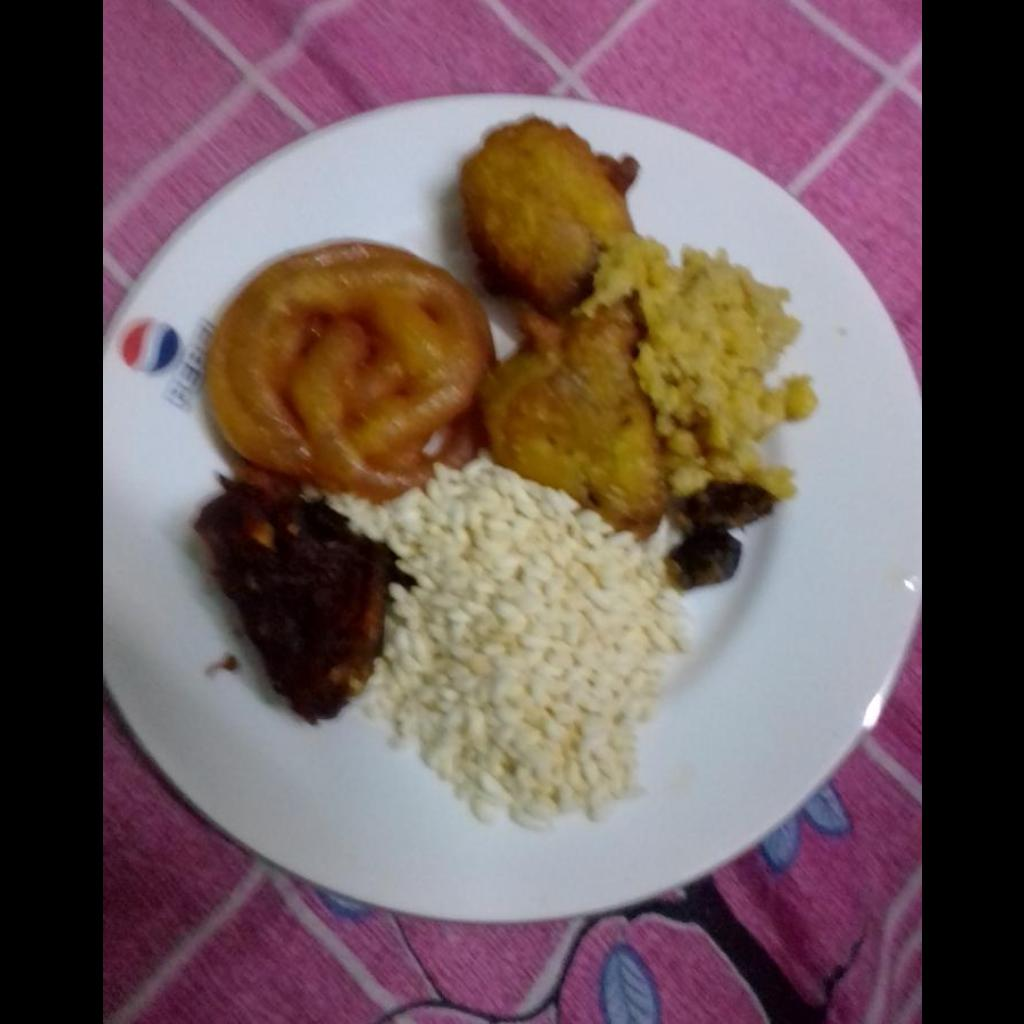chicken: (195, 480, 414, 722)
chop-alu: (459, 117, 664, 532)
daal: (580, 239, 815, 499)
dates: (666, 482, 776, 591)
jilapi: (203, 241, 493, 502)
puffed-rice: (363, 472, 682, 835)
